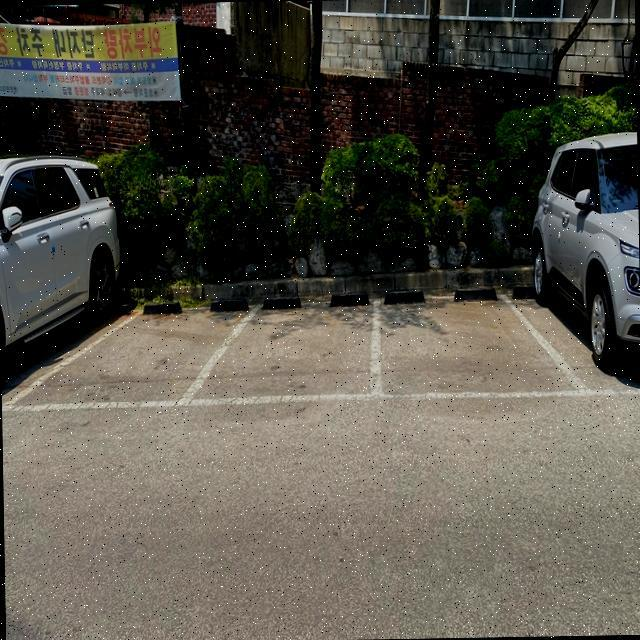empty: (48, 284, 224, 408), (382, 284, 540, 405), (225, 289, 383, 399)
